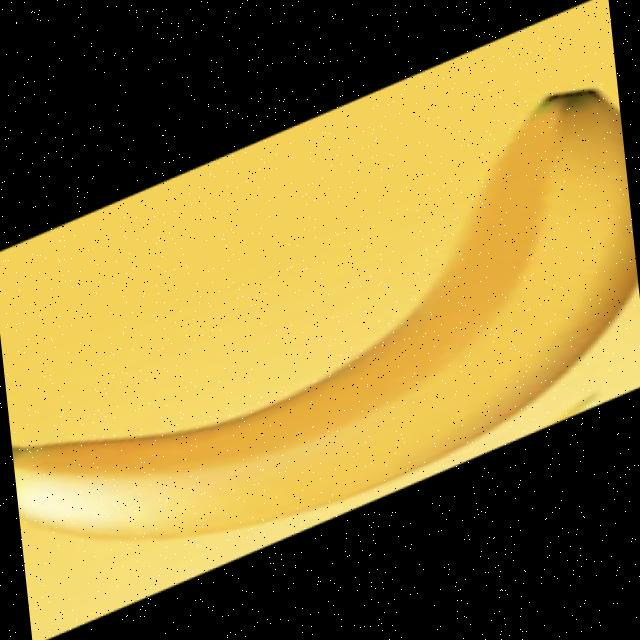Ripe: (0, 81, 640, 560)
